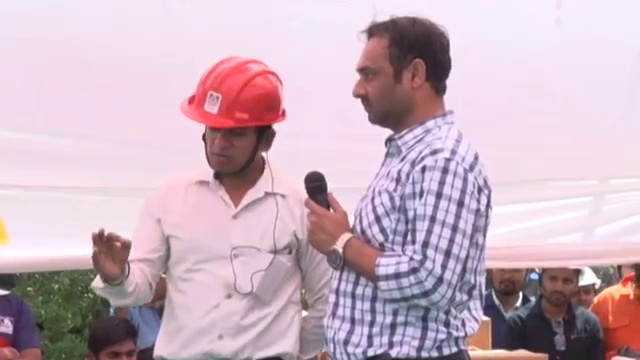helmet: (174, 54, 289, 130), (577, 267, 603, 290)
helmet_off: (357, 14, 455, 130), (85, 315, 142, 359), (538, 269, 581, 313), (491, 264, 529, 303)
helmet_on: (172, 56, 289, 174), (575, 266, 605, 311)
person: (88, 51, 338, 351), (319, 0, 505, 352), (509, 266, 604, 359), (0, 222, 42, 358), (479, 261, 541, 348), (591, 271, 640, 360)
